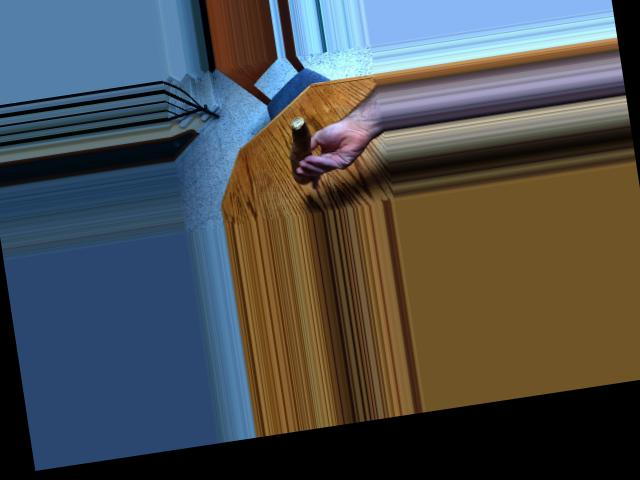sweet_potato: (281, 120, 321, 180)
